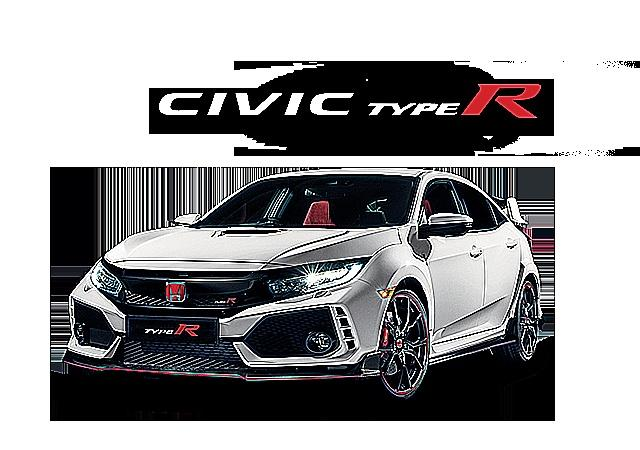Car hood: (101, 223, 404, 276)
Fender - -F-L-: (356, 218, 436, 362)
Fender - -R-L-: (510, 240, 538, 335)
Front bumper: (60, 288, 395, 386)
Headlight - -L-: (263, 253, 376, 303)
Headlight - -R-: (85, 248, 132, 299)
Passenger-s door - -F-L-: (432, 173, 486, 348)
Passenger-s door - -R-L-: (467, 186, 523, 343)
Rear bumper: (532, 280, 554, 332)
Side bumper - -L-: (422, 324, 517, 367)
Side mirror - -L-: (420, 203, 480, 242)
Side mirror - -R-: (173, 209, 204, 233)
